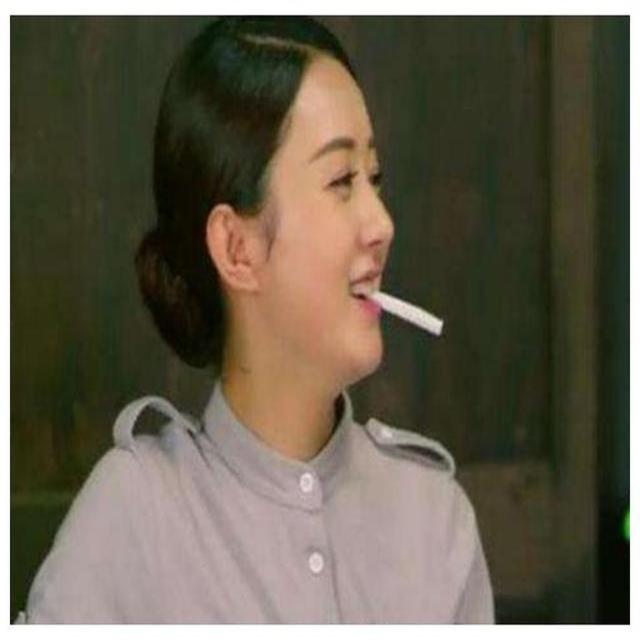smoking: (135, 17, 472, 416)
